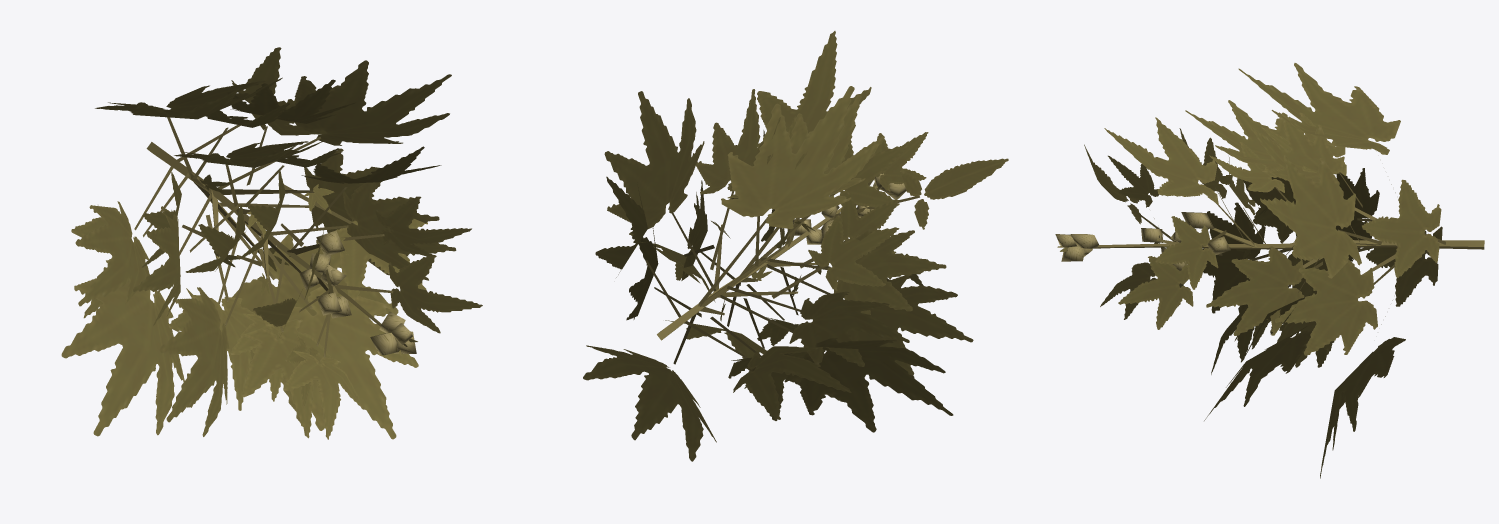
The model's file is p_male_tree_preflower_c2_cards.obj.
The picture shows the model from 3 angles, left to right: view 1: azimuth 30°, elevation 25°; view 2: azimuth 150°, elevation 25°; view 3: azimuth 270°, elevation 25°; orthographic projection. The views are drawn at different scales.
Bounding box in the file's own units: 1.36 × 1.32 × 1.28.
1 material, 1 textured.
